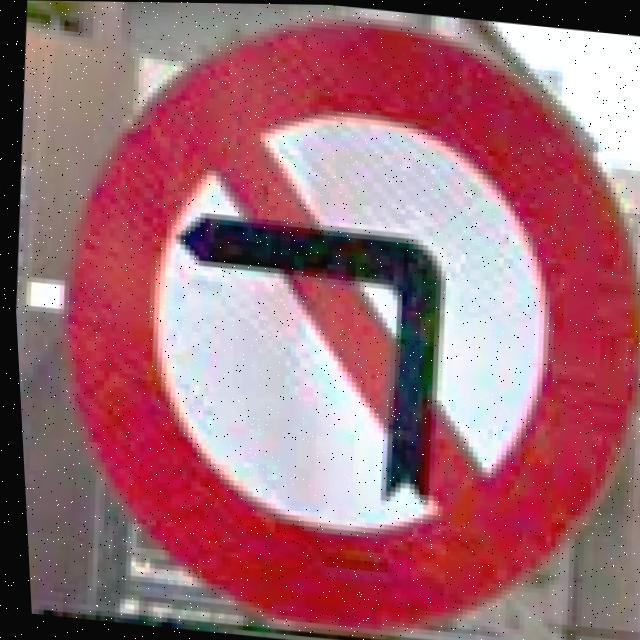noturnleft: (17, 0, 640, 640)
